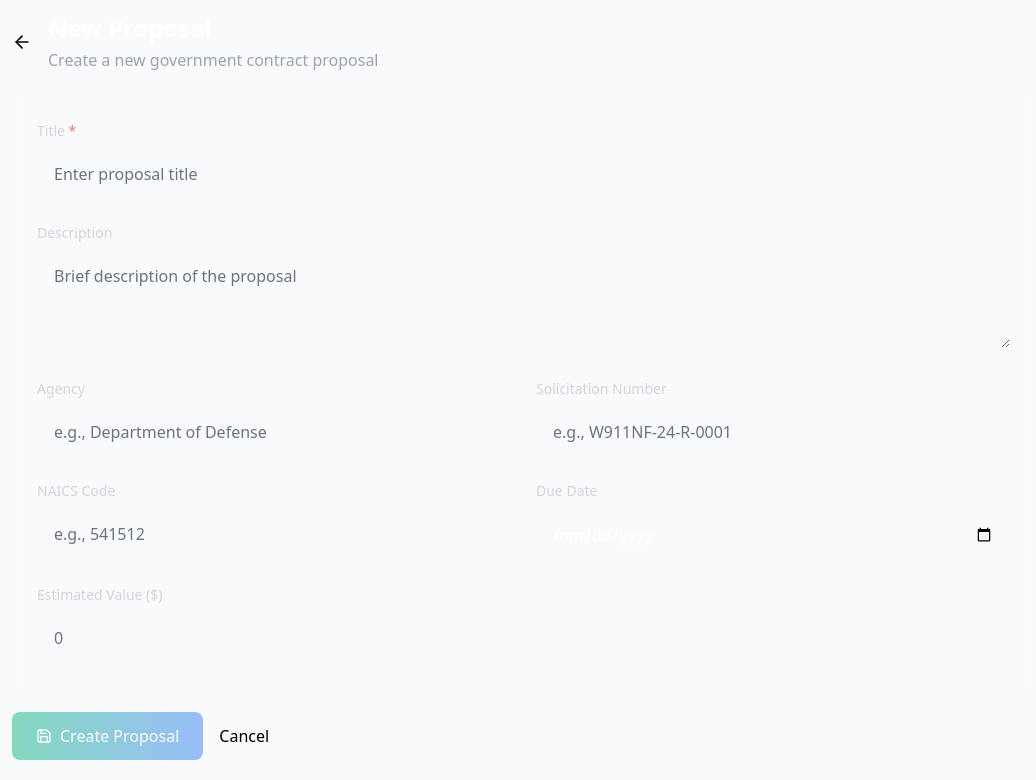
NewProposalPage › shows error on API failure
Type "Test" into the field with placeholder "Enter proposal title" at (524, 174), box 37,149 -> 1011,199
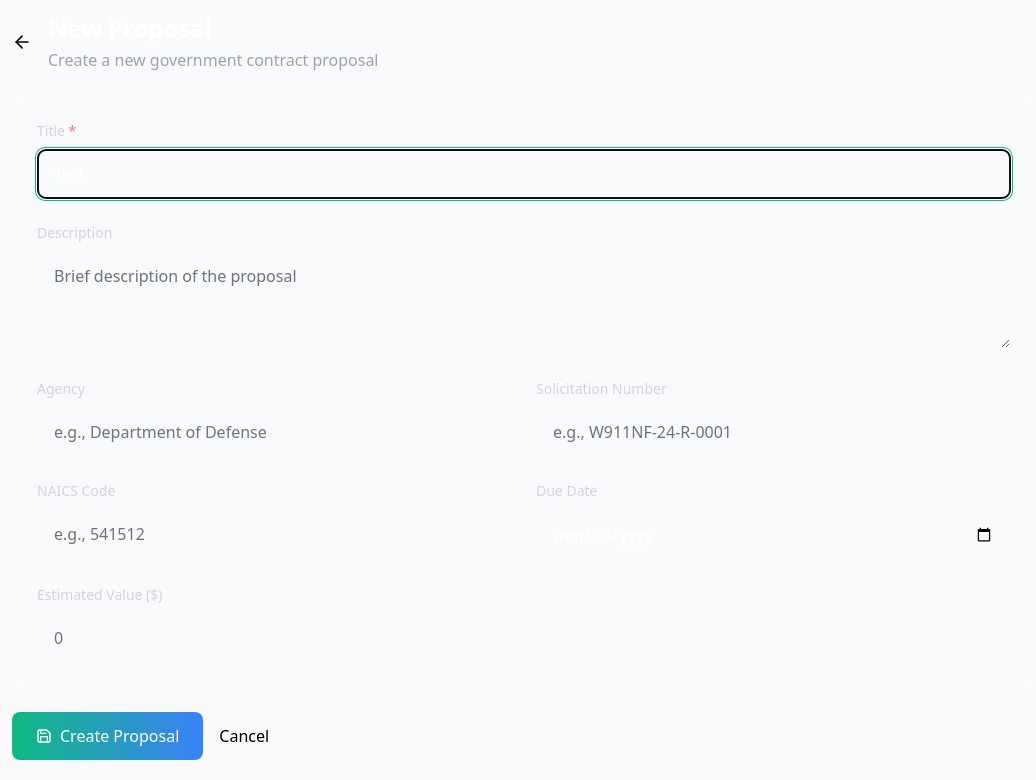
Click the button "Create Proposal" at (108, 736), box 12,712 -> 203,760
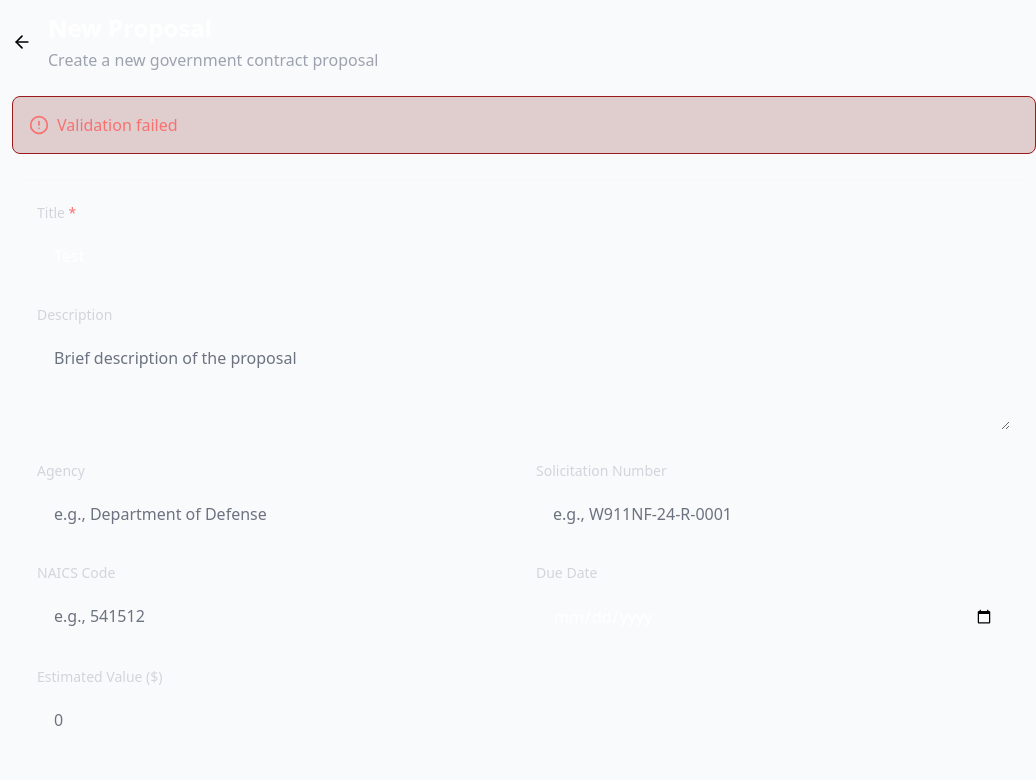
Now the text "Validation failed" is shown, box 12,96 -> 1035,154
